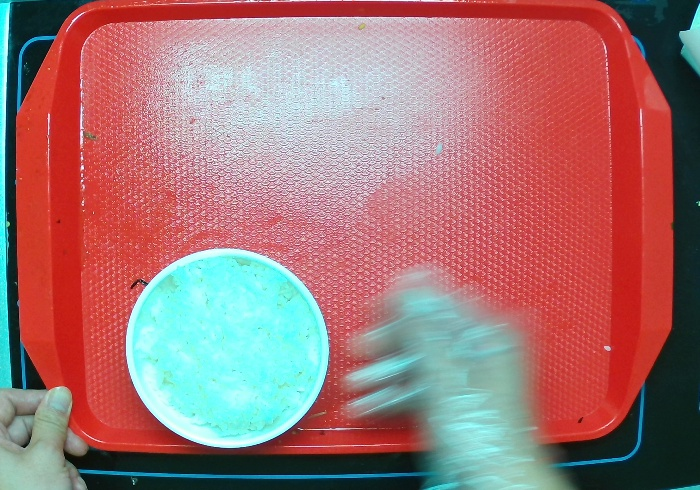YKMZ-Fan_Wan: (120, 235, 336, 462)
